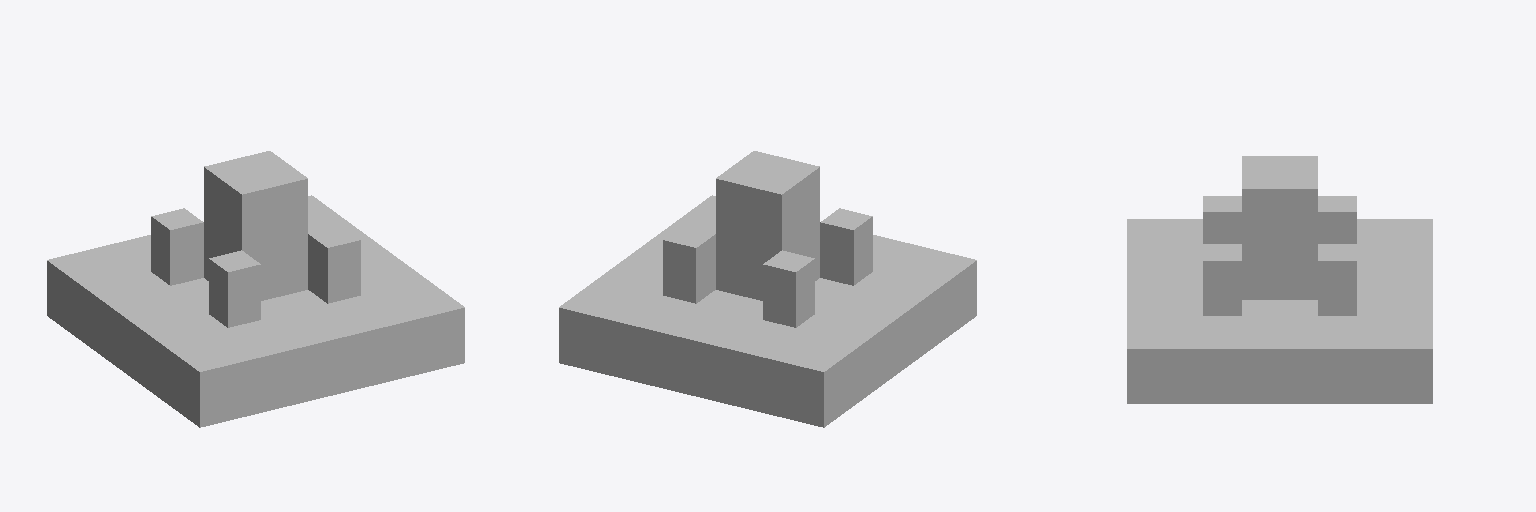
The model's file is mruReactor_btm.obj.
3 renders of one model, left to right at view 1: azimuth 30°, elevation 25°; view 2: azimuth 150°, elevation 25°; view 3: azimuth 270°, elevation 25°, orthographic.
Visible parts, largest first — view 1: pCube1; view 2: pCube1; view 3: pCube1.
Part boxes in pixels (x1,y1,x2,y2): pCube1: (47,151,464,427); pCube1: (559,151,976,427); pCube1: (1127,156,1432,403).
Bounding box in the file's own units: 1 × 0.6 × 1.